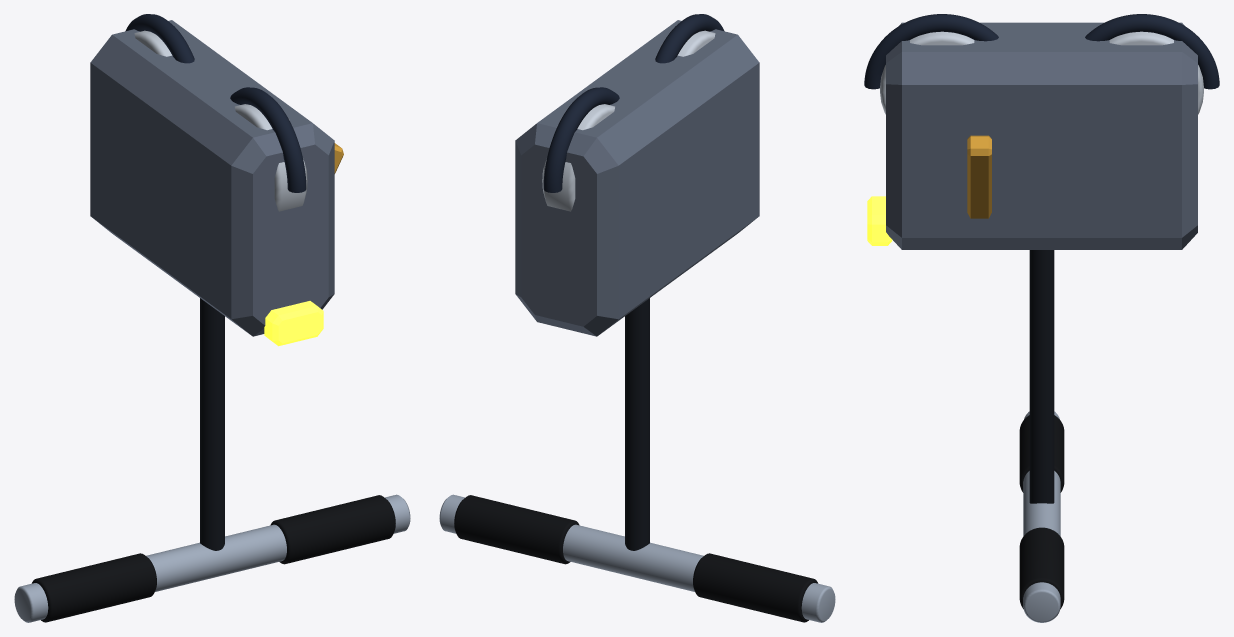
File: shared_zipline_trolley.glb
3 renders of one model, left to right at view 1: azimuth 30°, elevation 25°; view 2: azimuth 150°, elevation 25°; view 3: azimuth 270°, elevation 25°, orthographic.
Parts seen in each view (by area): view 1: trolley_frame, trolley_tbar, trolley_strap, trolley_grip1, trolley_grip-1, trolley_wheel_guard0.16, trolley_lamp, trolley_wheel0.16, trolley_wheel_guard-0.16; view 2: trolley_frame, trolley_tbar, trolley_strap, trolley_grip1, trolley_grip-1, trolley_wheel_guard-0.16, trolley_wheel-0.16, trolley_wheel_guard0.16; view 3: trolley_frame, trolley_strap, trolley_tbar, trolley_wheel_guard-0.16, trolley_wheel_guard0.16, trolley_grip1, trolley_brake, trolley_grip-1, trolley_lamp, trolley_wheel-0.16, trolley_wheel0.16.
Boxes of the visible parts, box(x1,y1,x2,y2) form: trolley_frame: box(90, 20, 334, 336); trolley_tbar: box(14, 494, 410, 622); trolley_strap: box(200, 298, 224, 550); trolley_grip1: box(270, 495, 395, 564); trolley_grip-1: box(32, 553, 156, 622); trolley_wheel_guard0.16: box(230, 87, 306, 192); trolley_lamp: box(264, 301, 323, 346); trolley_wheel0.16: box(235, 104, 307, 211); trolley_wheel_guard-0.16: box(125, 14, 194, 63); trolley_frame: box(515, 20, 759, 336); trolley_tbar: box(439, 494, 835, 622); trolley_strap: box(625, 298, 649, 550); trolley_grip1: box(454, 495, 579, 564); trolley_grip-1: box(693, 553, 817, 622); trolley_wheel_guard-0.16: box(543, 87, 619, 192); trolley_wheel-0.16: box(542, 104, 614, 211); trolley_wheel_guard0.16: box(655, 14, 724, 63); trolley_frame: box(886, 22, 1197, 249); trolley_strap: box(1029, 250, 1054, 503); trolley_tbar: box(1023, 411, 1060, 622); trolley_wheel_guard-0.16: box(1085, 14, 1219, 89); trolley_wheel_guard0.16: box(864, 14, 998, 89); trolley_grip1: box(1019, 527, 1064, 608); trolley_brake: box(967, 135, 991, 218); trolley_grip-1: box(1019, 415, 1064, 492); trolley_lamp: box(867, 196, 892, 245); trolley_wheel-0.16: box(1109, 31, 1203, 114); trolley_wheel0.16: box(880, 31, 974, 114).
Size of the model in its own units: 0.7 by 0.921 by 0.57.
